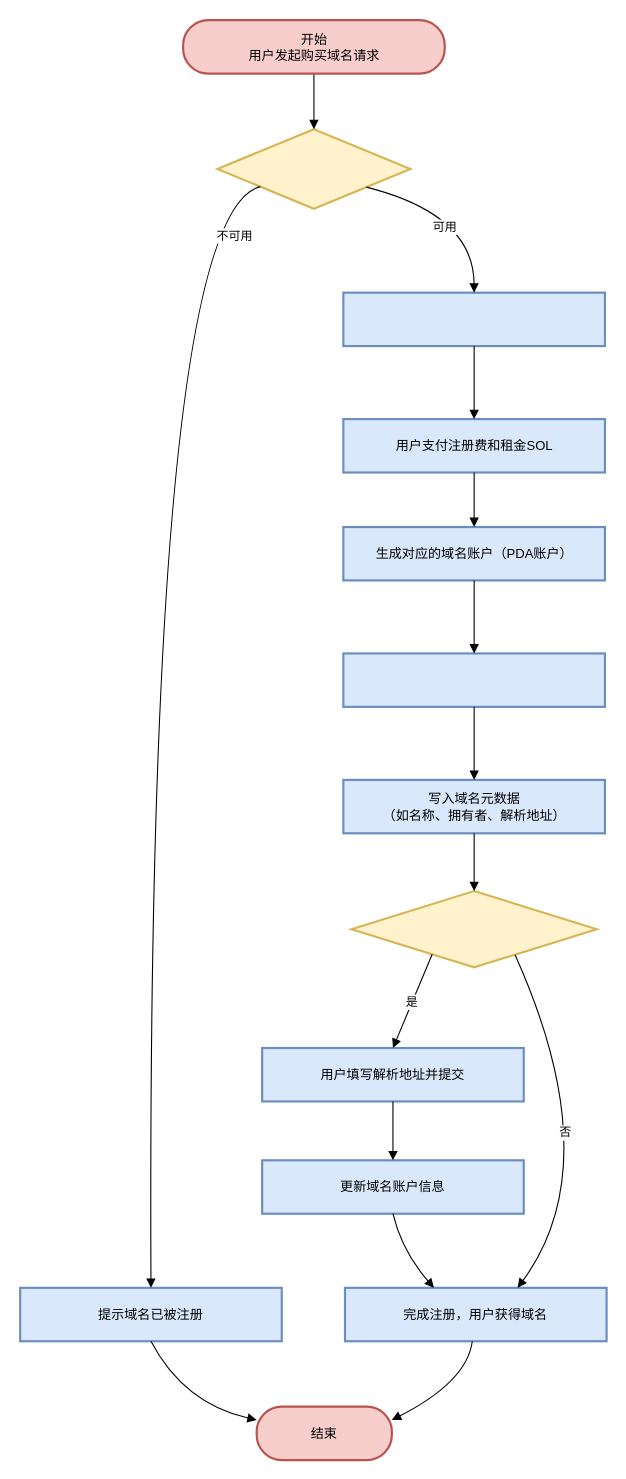
This 626x1479 diagram has some shape labels left out. Each missing label, with the box of its shape:
将SOL中的rent金额存入域名账户: (342, 652, 605, 707)
是否需要设置解析地址？: (350, 889, 597, 968)
检查域名是否可用: (216, 128, 411, 209)
计算注册费用和租金: (342, 291, 605, 347)
